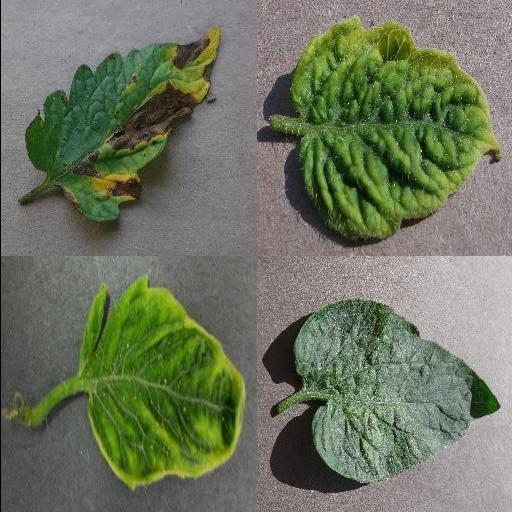Early Blight: (25, 28, 221, 226)
Spider Mites: (293, 298, 501, 484)
Yellow Leaf Curl Virus: (290, 15, 502, 242), (76, 277, 248, 493)
